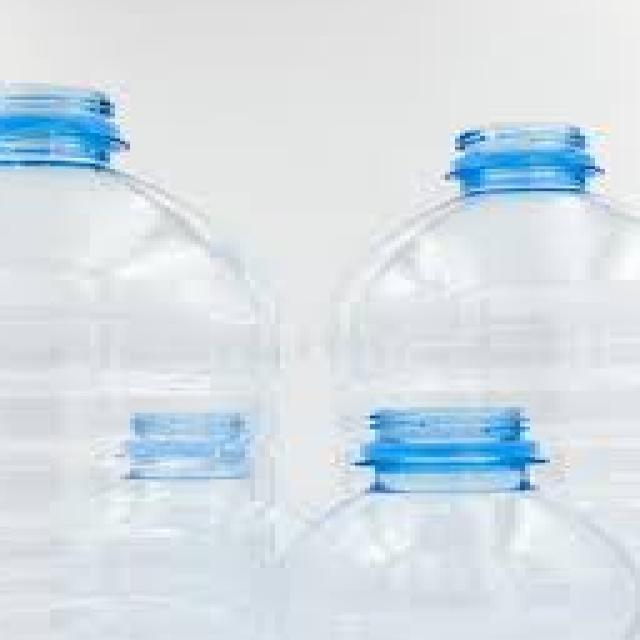organic: (299, 93, 630, 631), (1, 70, 292, 614)
